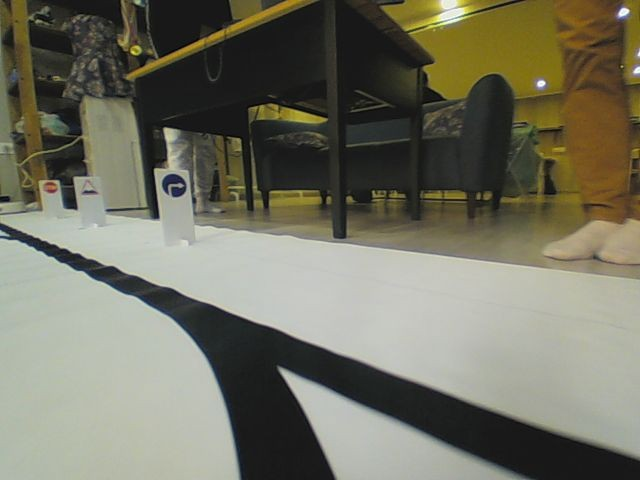Nerov: (79, 178, 100, 197)
Right: (160, 172, 187, 200)
